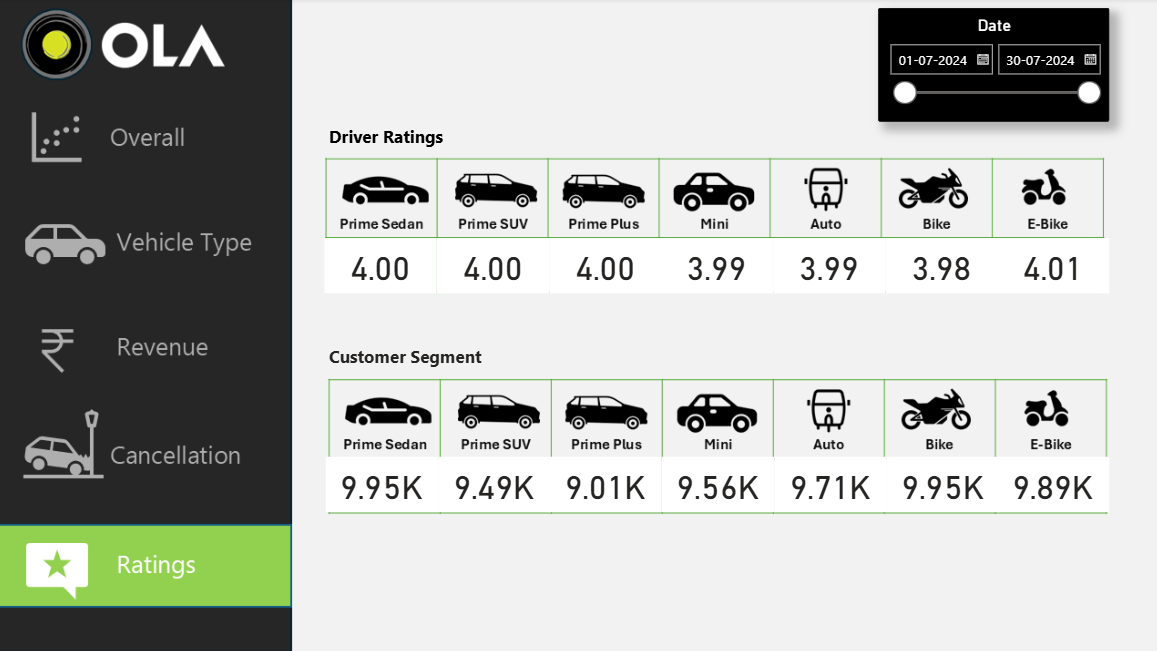

The dashboard page shown, as its layout file describes it:
{"tool":"powerbi","page":{"name":"Ratings","canvas":[1280,720],"ordinal":4},"visuals":[{"type":"actionButton","box":[0,223.2,322.1,101.3],"z":0},{"type":"actionButton","box":[0,339,322.1,101.3],"z":1000},{"type":"actionButton","box":[0,453.6,322.1,101.3],"z":2000},{"type":"actionButton","box":[0,571.9,322.1,101.3],"z":3000},{"type":"actionButton","box":[0,112.2,322.1,92.9],"z":4000},{"type":"card","fields":{"Values":["Avg(july.Driver_Ratings)"]},"box":[360.1,263.8,123,60.8],"z":5000},{"type":"card","fields":{"Values":["Avg(july.Driver_Ratings)"]},"box":[483.1,263.8,123,60.8],"z":6000},{"type":"card","fields":{"Values":["Avg(july.Driver_Ratings)"]},"box":[606.1,263.8,123,60.8],"z":7000},{"type":"card","fields":{"Values":["Avg(july.Driver_Ratings)"]},"box":[729.1,263.8,123,60.8],"z":8000},{"type":"card","fields":{"Values":["Avg(july.Driver_Ratings)"]},"box":[852.1,263.8,123,60.8],"z":9000},{"type":"card","fields":{"Values":["Avg(july.Driver_Ratings)"]},"box":[975,263.8,123,60.8],"z":10000},{"type":"card","fields":{"Values":["Avg(july.Driver_Ratings)"]},"box":[1098,263.8,123,60.8],"z":11000},{"type":"textbox","box":[360.1,134.8,431.2,40],"z":12000},{"type":"textbox","box":[360.1,376.4,641.6,38.5],"z":13000},{"type":"card","fields":{"Values":["Sum(july.Customer_Rating)"]},"box":[361.6,503.8,123,60.8],"z":14000},{"type":"card","fields":{"Values":["Sum(july.Customer_Rating)"]},"box":[484.6,503.8,123,60.8],"z":15000},{"type":"card","fields":{"Values":["Sum(july.Customer_Rating)"]},"box":[606.1,503.8,123,60.8],"z":16000},{"type":"card","fields":{"Values":["Sum(july.Customer_Rating)"]},"box":[730.5,503.8,123,60.8],"z":17000},{"type":"card","fields":{"Values":["Sum(july.Customer_Rating)"]},"box":[853.5,503.8,123,60.8],"z":18000},{"type":"card","fields":{"Values":["Sum(july.Customer_Rating)"]},"box":[976.5,503.8,123,60.8],"z":19000},{"type":"card","fields":{"Values":["Sum(july.Customer_Rating)"]},"box":[1098,503.8,123,60.8],"z":20000},{"type":"slicer","title":"Date","fields":{"Values":["ola-bookings.Date"]},"box":[967.6,10.4,253.4,124.5],"z":21000}]}

Visuals, with their boxes in screenshot pixels (x1, y1, x2, y2), scaled from the page's 1280x720 canvas onto the 1157x651 screenshot:
actionButton: region(0, 202, 291, 293)
actionButton: region(0, 307, 291, 398)
actionButton: region(0, 410, 291, 502)
actionButton: region(0, 517, 291, 609)
actionButton: region(0, 101, 291, 185)
card - Avg(july.Driver_Ratings): region(325, 239, 437, 293)
card - Avg(july.Driver_Ratings): region(437, 239, 548, 293)
card - Avg(july.Driver_Ratings): region(548, 239, 659, 293)
card - Avg(july.Driver_Ratings): region(659, 239, 770, 293)
card - Avg(july.Driver_Ratings): region(770, 239, 881, 293)
card - Avg(july.Driver_Ratings): region(881, 239, 992, 293)
card - Avg(july.Driver_Ratings): region(992, 239, 1104, 293)
textbox: region(325, 122, 715, 158)
textbox: region(325, 340, 905, 375)
card - Sum(july.Customer_Rating): region(327, 456, 438, 510)
card - Sum(july.Customer_Rating): region(438, 456, 549, 510)
card - Sum(july.Customer_Rating): region(548, 456, 659, 510)
card - Sum(july.Customer_Rating): region(660, 456, 771, 510)
card - Sum(july.Customer_Rating): region(771, 456, 883, 510)
card - Sum(july.Customer_Rating): region(883, 456, 994, 510)
card - Sum(july.Customer_Rating): region(992, 456, 1104, 510)
"Date" slicer: region(875, 9, 1104, 122)
